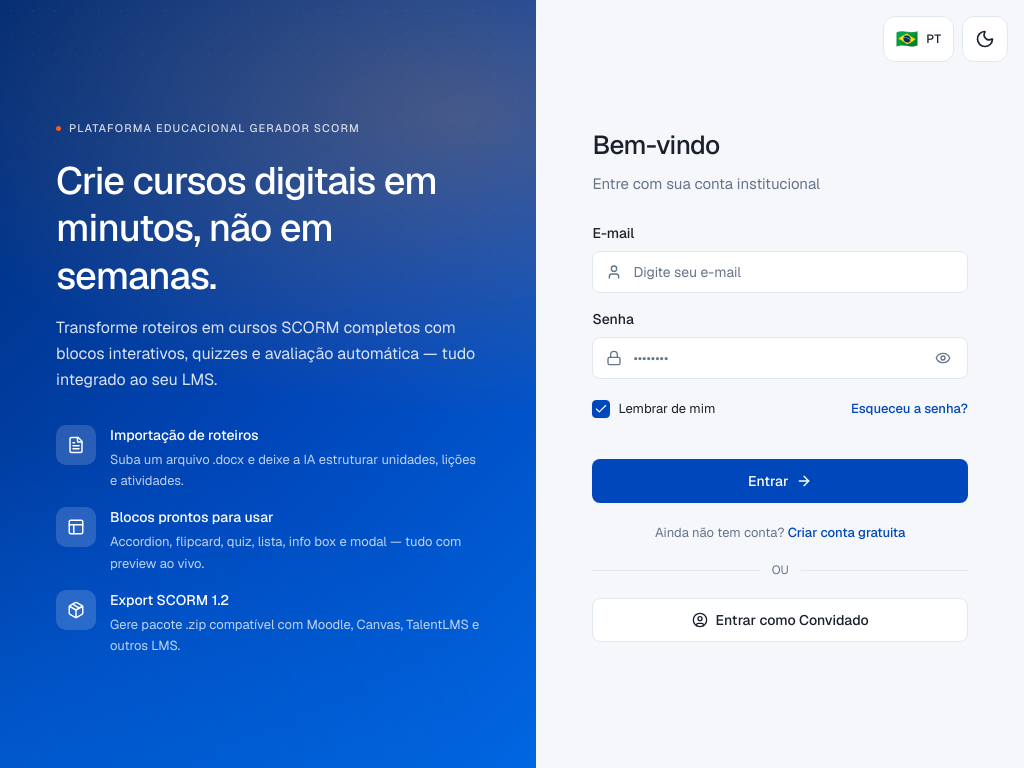
Test: Integration - Login Flow › validates the required fields
The width and height of the screenshot is (1024, 768).
Click the button "Entrar" at {"x": 780, "y": 481}, box left=592, top=459, right=968, bottom=503
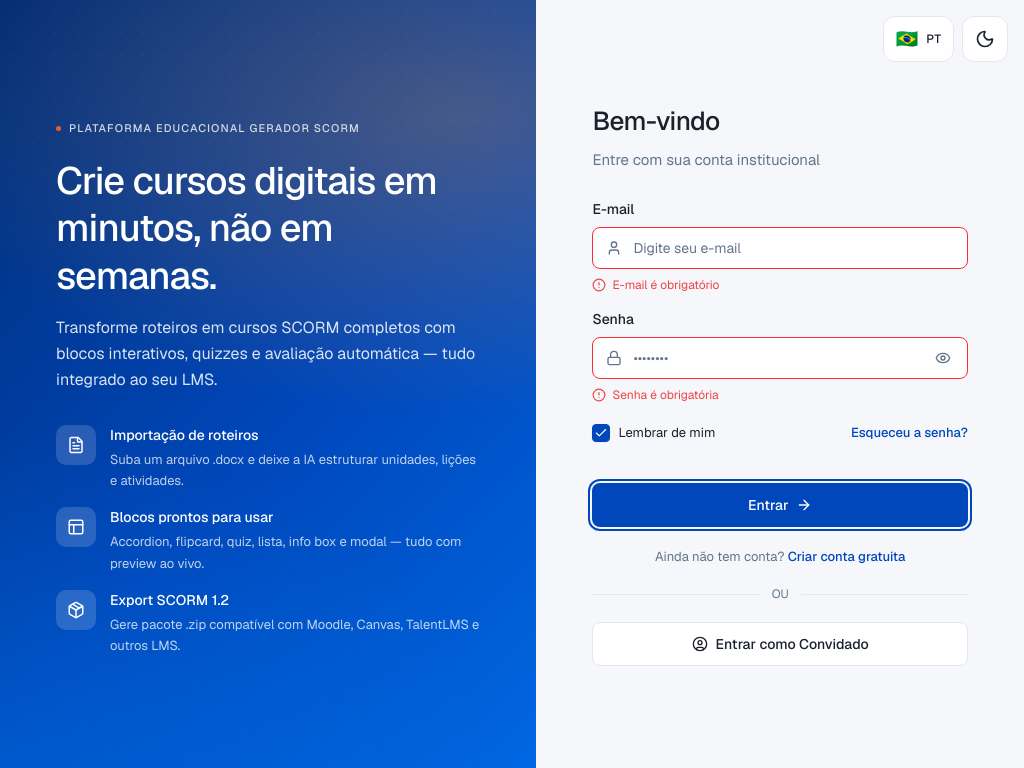
Check: the text "E-mail é obrigatório" is shown, box left=592, top=277, right=719, bottom=293
Check: the text "Senha é obrigatória" is shown, box left=592, top=387, right=719, bottom=403
